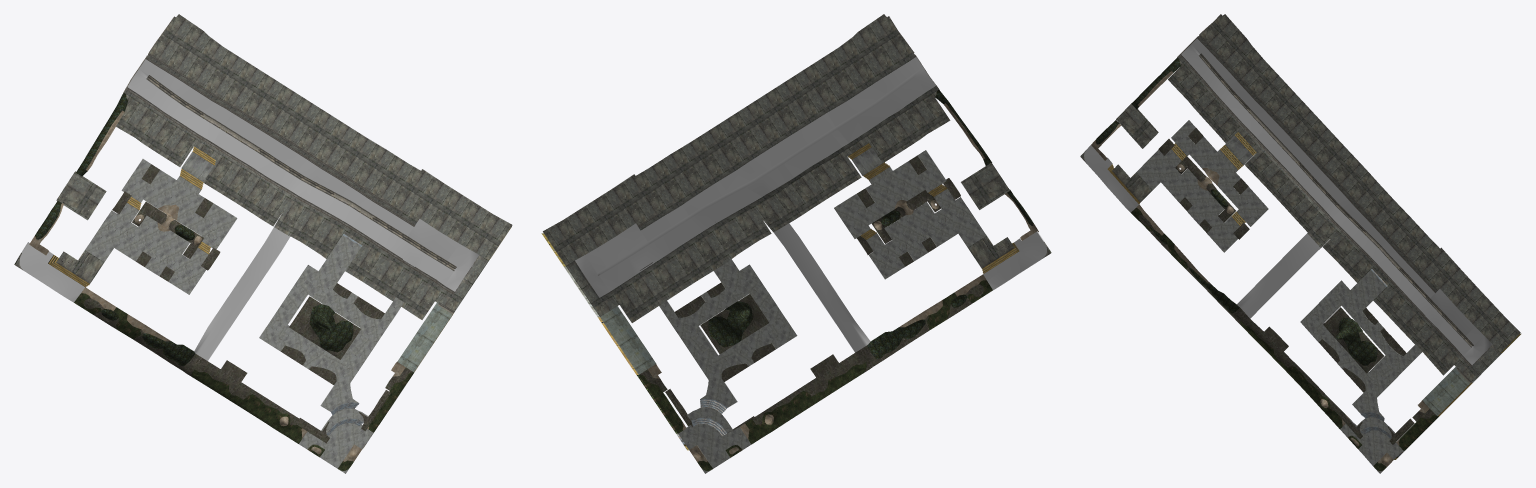
Rendered from ground 02.fbx.
3 views of the same model, side by side, from view 1: azimuth 30°, elevation 25°; view 2: azimuth 150°, elevation 25°; view 3: azimuth 330°, elevation 25° (orthographic). The views are drawn at different scales.
Visible parts, largest first — view 1: sc1_12_ground02; view 2: sc1_12_ground02; view 3: sc1_12_ground02.
Part boxes in pixels (x1=…): sc1_12_ground02: x1=14, y1=14, x2=512, y2=473; sc1_12_ground02: x1=541, y1=14, x2=1051, y2=473; sc1_12_ground02: x1=1080, y1=14, x2=1521, y2=473.
Bounding box in the file's own units: 10323 × 9830 × 665.
